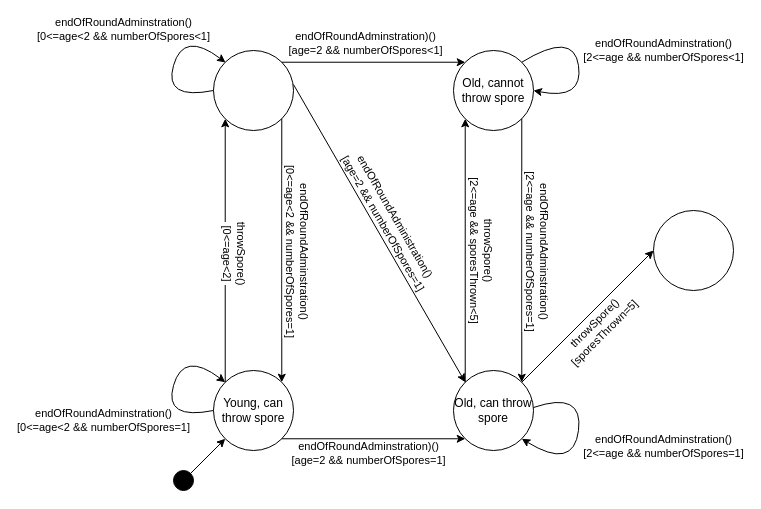
Some shapes in this 761 by 509 pixel diagram are drawn without their labels. Here are the shapes that lost their labels. From the top down, the centre of each, then its label:
At [253,90]: "Young, cannot throw spore".
At [693,250]: "Dead".
